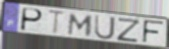F: (142, 19, 166, 45)
M: (67, 13, 95, 38)
P: (19, 7, 44, 33)
T: (47, 9, 67, 37)
U: (94, 14, 116, 41)
Z: (116, 17, 143, 44)
